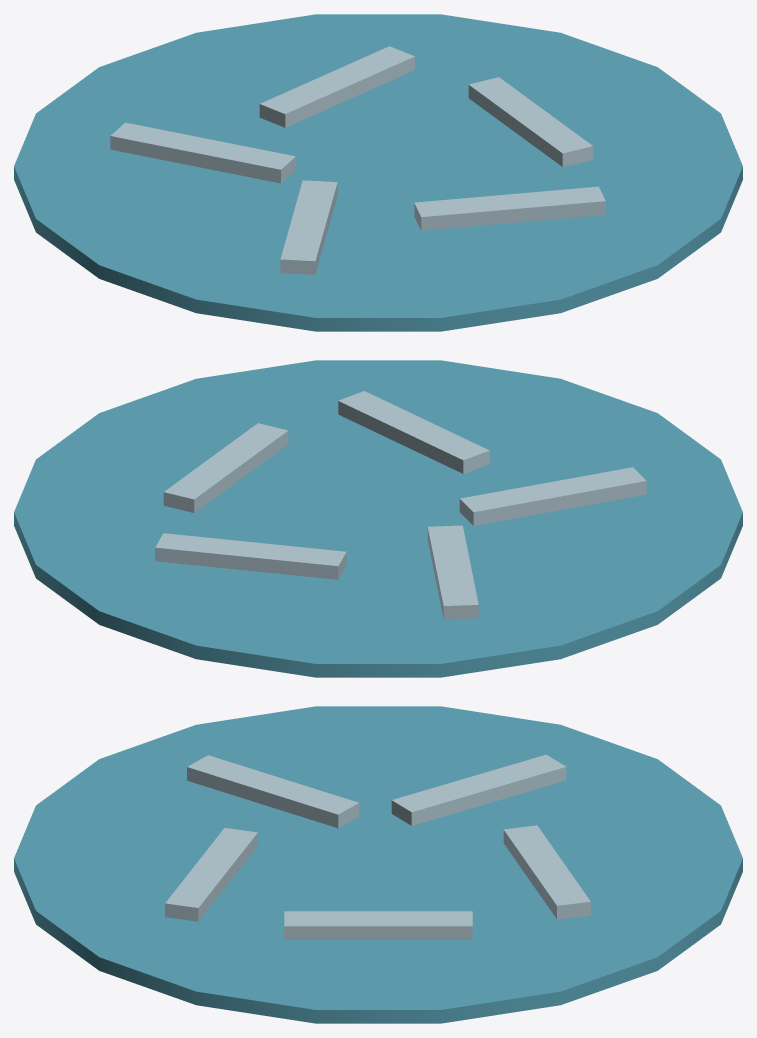
The model's file is ground-decal.glb.
3 views of the same model, one above another, from view 1: azimuth 30°, elevation 25°; view 2: azimuth 150°, elevation 25°; view 3: azimuth 270°, elevation 25° (orthographic).
Parts seen in each view (by area): view 1: decal_plate, rune_1, rune_3, rune_4, rune_0, rune_2; view 2: decal_plate, rune_4, rune_2, rune_1, rune_0, rune_3; view 3: decal_plate, rune_0, rune_3, rune_2, rune_1, rune_4.
Part boxes in pixels (left/top/right/bottom): decal_plate: left=14, top=14, right=742, bottom=331; rune_1: left=414, top=186, right=605, bottom=230; rune_3: left=110, top=122, right=295, bottom=183; rune_4: left=259, top=46, right=414, bottom=127; rune_0: left=468, top=77, right=593, bottom=166; rune_2: left=280, top=180, right=337, bottom=274; decal_plate: left=14, top=360, right=742, bottom=677; rune_4: left=155, top=533, right=346, bottom=579; rune_2: left=459, top=467, right=646, bottom=525; rune_1: left=338, top=391, right=489, bottom=473; rune_0: left=163, top=423, right=288, bottom=512; rune_3: left=427, top=525, right=478, bottom=619; decal_plate: left=14, top=706, right=742, bottom=1023; rune_0: left=284, top=911, right=472, bottom=939; rune_3: left=391, top=754, right=566, bottom=825; rune_2: left=187, top=755, right=359, bottom=828; rune_1: left=165, top=828, right=257, bottom=921; rune_4: left=503, top=825, right=590, bottom=919.
Size of what is drawn, in the model's own units: 2.86 by 0.12 by 2.9.
